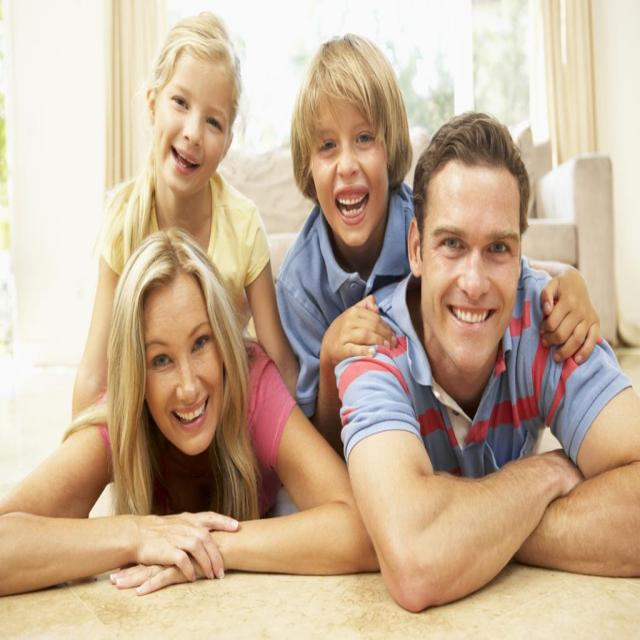Face: (420, 147, 534, 373), (138, 281, 244, 461), (292, 99, 398, 249), (150, 56, 242, 201)
